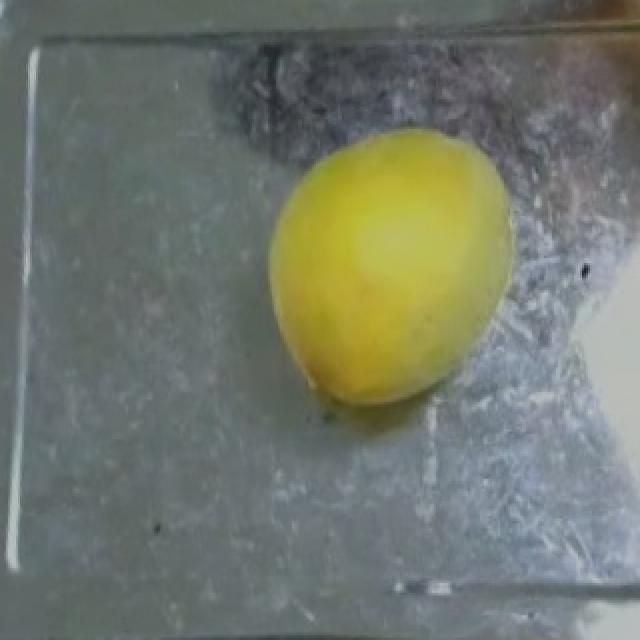fruit: (244, 101, 542, 432)
